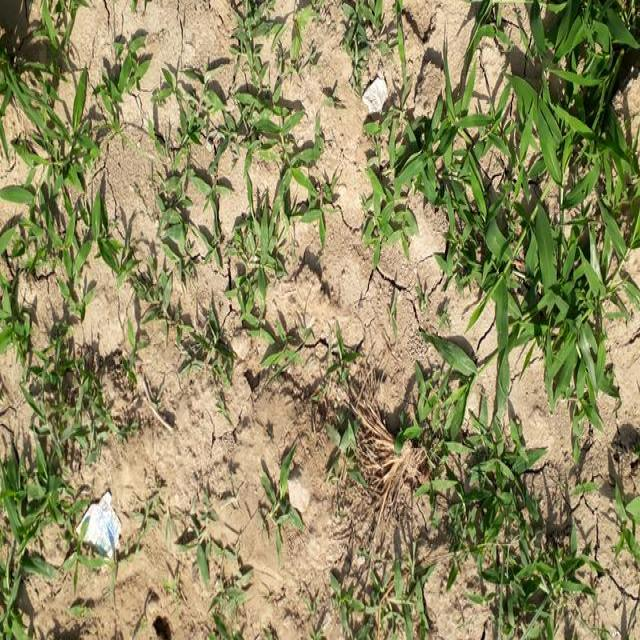weed: (360, 7, 640, 404), (413, 426, 584, 640), (3, 331, 111, 633)
